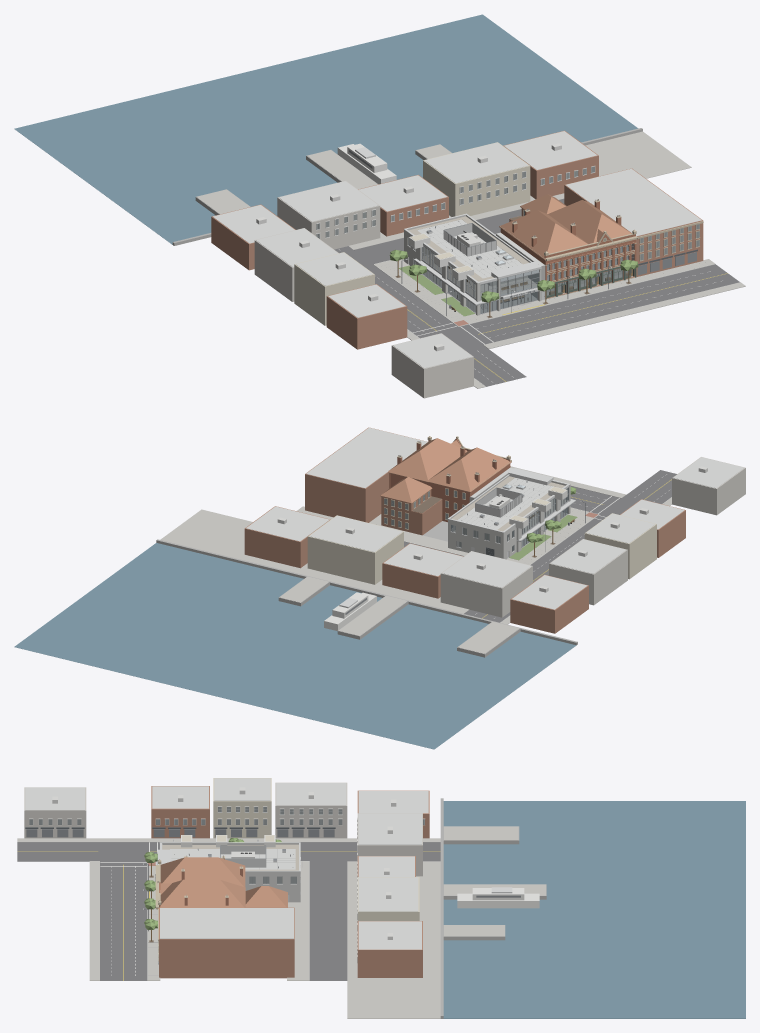
The model's file is clay-halifax-ferry-terminal-clay-v002.glb.
3 renders of one model, top to bottom at view 1: azimuth 30°, elevation 25°; view 2: azimuth 150°, elevation 25°; view 3: azimuth 270°, elevation 25°, orthographic. The views are drawn at different scales.
Parts seen in each view (by area): view 1: CLAY_WATER, CLAY_MEMBRANE, CLAY_ASPHALT, CLAY_PAVING, CLAY_BRICK2, CLAY_CTX, CLAY_CREAM, CLAY_TILE, CLAY_GLASS, CLAY_FRAME, CLAY_PAINT, CLAY_INTERIOR (+10 smaller); view 2: CLAY_WATER, CLAY_MEMBRANE, CLAY_BRICK2, CLAY_PAVING, CLAY_CTX, CLAY_CREAM, CLAY_TILE, CLAY_ASPHALT, CLAY_CONCRETE2, CLAY_WALL, CLAY_PAINT, CLAY_PANEL (+8 smaller); view 3: CLAY_WATER, CLAY_MEMBRANE, CLAY_PAVING, CLAY_ASPHALT, CLAY_BRICK2, CLAY_TILE, CLAY_CTX, CLAY_PAINT, CLAY_CREAM, CLAY_FRAME, CLAY_CONCRETE2, CLAY_WALL (+8 smaller).
Part boxes in pixels (x1,y1,x2,y2): CLAY_WATER: (14, 14, 638, 244); CLAY_MEMBRANE: (213, 131, 701, 368); CLAY_ASPHALT: (334, 199, 739, 386); CLAY_PAVING: (196, 131, 745, 388); CLAY_BRICK2: (211, 130, 703, 349); CLAY_CTX: (254, 180, 473, 398); CLAY_CREAM: (294, 142, 530, 325); CLAY_TILE: (499, 194, 631, 260); CLAY_GLASS: (316, 167, 699, 313); CLAY_FRAME: (317, 150, 699, 315); CLAY_PAINT: (316, 143, 722, 384); CLAY_INTERIOR: (316, 167, 699, 298); CLAY_WATER: (14, 543, 576, 749); CLAY_MEMBRANE: (246, 427, 744, 609); CLAY_BRICK2: (244, 427, 685, 633); CLAY_PAVING: (160, 466, 671, 653); CLAY_CTX: (440, 457, 745, 617); CLAY_CREAM: (307, 487, 656, 584); CLAY_TILE: (380, 438, 511, 503); CLAY_ASPHALT: (404, 470, 676, 622); CLAY_CONCRETE2: (156, 473, 577, 657); CLAY_WALL: (448, 475, 570, 559); CLAY_PAINT: (324, 471, 670, 630); CLAY_PANEL: (339, 468, 581, 608); CLAY_WATER: (443, 801, 745, 1018); CLAY_MEMBRANE: (25, 778, 428, 949); CLAY_PAVING: (17, 826, 545, 1018); CLAY_ASPHALT: (17, 842, 440, 980); CLAY_BRICK2: (151, 786, 429, 978); CLAY_TILE: (157, 857, 287, 909); CLAY_CTX: (24, 782, 422, 876); CLAY_PAINT: (29, 806, 539, 975); CLAY_CREAM: (182, 778, 419, 920); CLAY_FRAME: (26, 807, 520, 931); CLAY_CONCRETE2: (148, 798, 546, 1018); CLAY_WALL: (159, 842, 300, 902).
Size of the model in its own units: 150 by 18.7 by 213.
